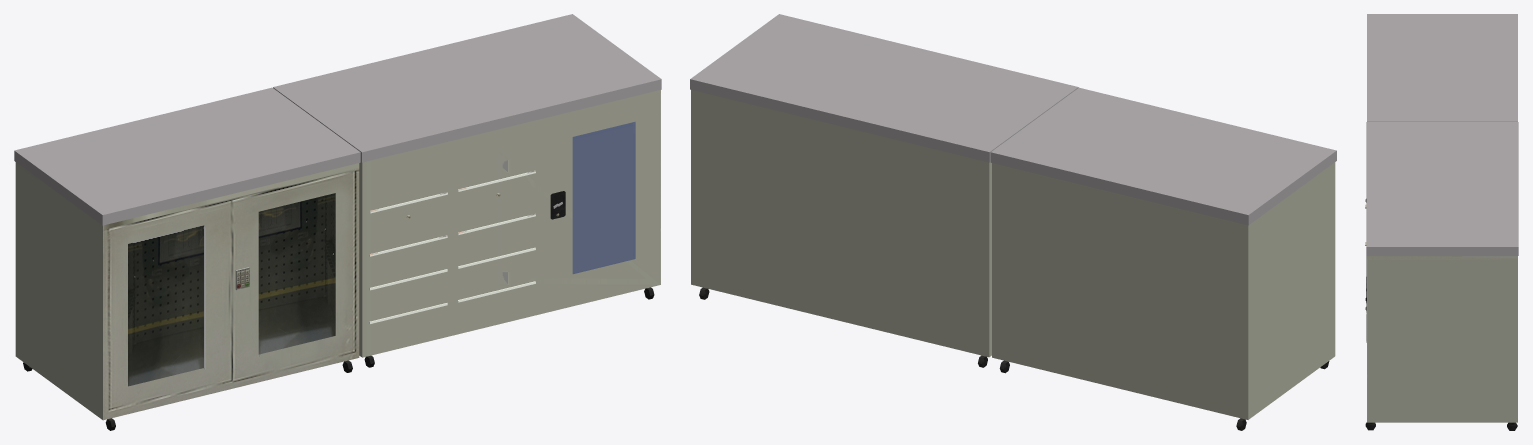
Rendered from zhiwu07.FBX.
3 views of the same model, side by side, from view 1: azimuth 30°, elevation 25°; view 2: azimuth 150°, elevation 25°; view 3: azimuth 270°, elevation 25° (orthographic). The views are drawn at different scales.
Parts seen in each view (by area): view 1: YF_Model_zhiwu07; view 2: YF_Model_zhiwu07; view 3: YF_Model_zhiwu07.
Boxes of the visible parts, x1,y1,x2,y2 form: YF_Model_zhiwu07: (14,14,661,430); YF_Model_zhiwu07: (690,14,1336,430); YF_Model_zhiwu07: (1365,14,1518,430).
Size of the model in its own units: 453 by 170 by 126.
Materials: 1 (1 with a texture image).
